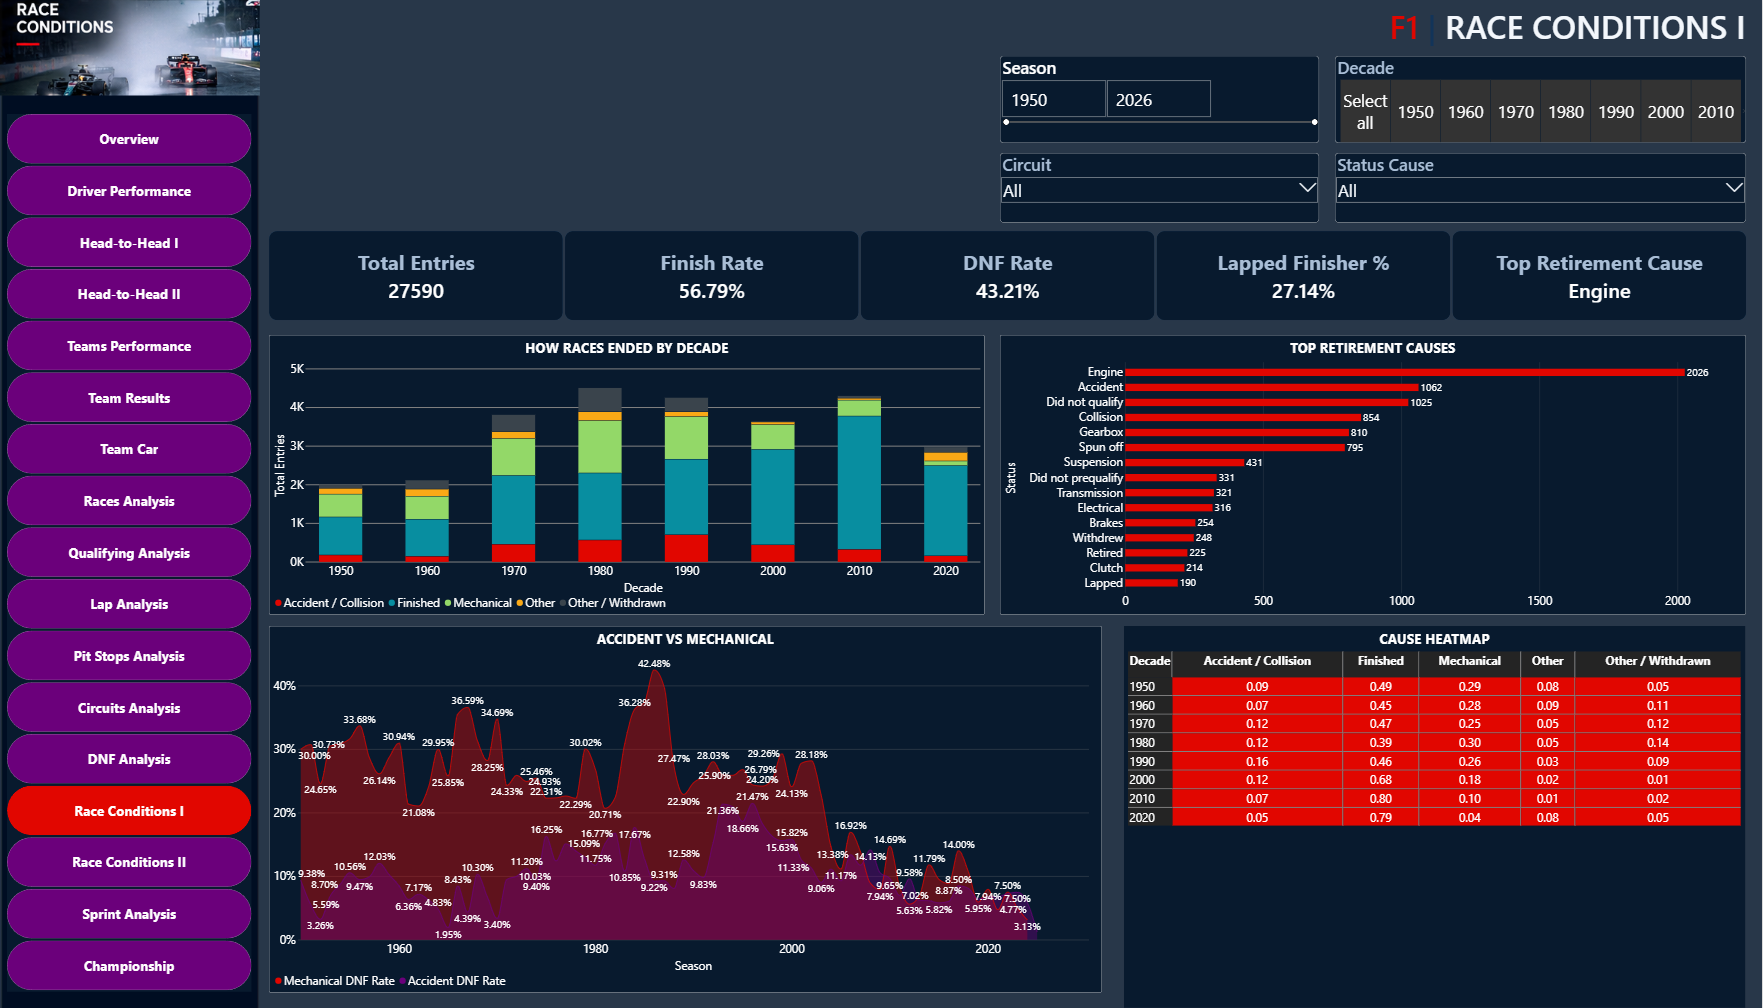

Layout of this report page (visuals, bound fields, positions):
{"tool":"powerbi","page":{"name":"Race Conditions I","canvas":[7000,4000],"ordinal":15},"visuals":[{"type":"textbox","box":[5453.2,14.8,1482.8,172.4],"z":0},{"type":"columnChart","title":"HOW RACES ENDED BY DECADE","fields":{"Category":["races.Decade"],"Series":["status.Status Cause"],"Y":["status.Total Entries"]},"box":[1075,1330,2840,1110],"z":1000},{"type":"slicer","fields":{"Values":["races.Decade"]},"box":[5305.4,221.7,1630.5,344.8],"z":2000},{"type":"areaChart","title":"ACCIDENT VS MECHANICAL","fields":{"Category":["races.year"],"Y":["status.Mechanical DNF Rate","status.Accident DNF Rate"]},"box":[1075,2485,3305,1455],"z":3000},{"type":"barChart","title":"TOP RETIREMENT CAUSES","fields":{"Category":["status.status"],"Y":["results.DNF Races"]},"box":[3975,1330,2960,1110],"z":4000},{"type":"cardVisual","fields":{"Data":["status.Total Entries","results.Finish Rate","results.DNF Rate","results.Lapped Finisher %","results.Top Retirement Cause"]},"box":[1073.9,916.3,5862.1,354.7],"z":5000},{"type":"slicer","fields":{"Values":["races.year"]},"box":[3975.4,221.7,1266,344.8],"z":6000},{"type":"slicer","fields":{"Values":["circuits.name"]},"box":[3975.4,605.9,1266,275.9],"z":7000},{"type":"slicer","fields":{"Values":["status.Status Cause"]},"box":[5305.4,605.9,1630.5,275.9],"z":8000},{"type":"pivotTable","title":"CAUSE HEATMAP","fields":{"Columns":["status.Status Cause"],"Rows":["races.Decade"],"Values":["results.Cause Share %"]},"box":[4470,2485,2465,1515],"z":9000},{"type":"shape","box":[9.9,0,1029.6,4502.5],"z":10000},{"type":"pageNavigator","box":[34.5,453.2,970.4,3482.8],"z":11000},{"type":"image","box":[0,0,1039.4,379.3],"z":12000}]}

Visuals, with their boxes on the page's 7000x4000 design canvas (x1, y1, x2, y2). These are canvas units, not pixel positions in the 1763x1008 screenshot, which may show the page scaled, cropped or inside an application window:
textbox: 5453 15 6936 187
"HOW RACES ENDED BY DECADE" columnChart: 1075 1330 3915 2440
slicer - races.Decade: 5305 222 6936 566
"ACCIDENT VS MECHANICAL" areaChart: 1075 2485 4380 3940
"TOP RETIREMENT CAUSES" barChart: 3975 1330 6935 2440
cardVisual - status.Total Entries x results.Finish Rate: 1074 916 6936 1271
slicer - races.year: 3975 222 5241 566
slicer - circuits.name: 3975 606 5241 882
slicer - status.Status Cause: 5305 606 6936 882
"CAUSE HEATMAP" pivotTable: 4470 2485 6935 4000
shape: 10 0 1040 4502
pageNavigator: 34 453 1005 3936
image: 0 0 1039 379
